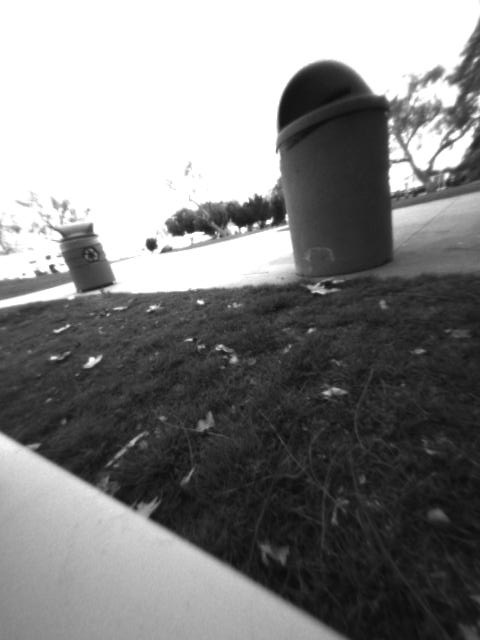trashcan: (275, 58, 399, 279)
